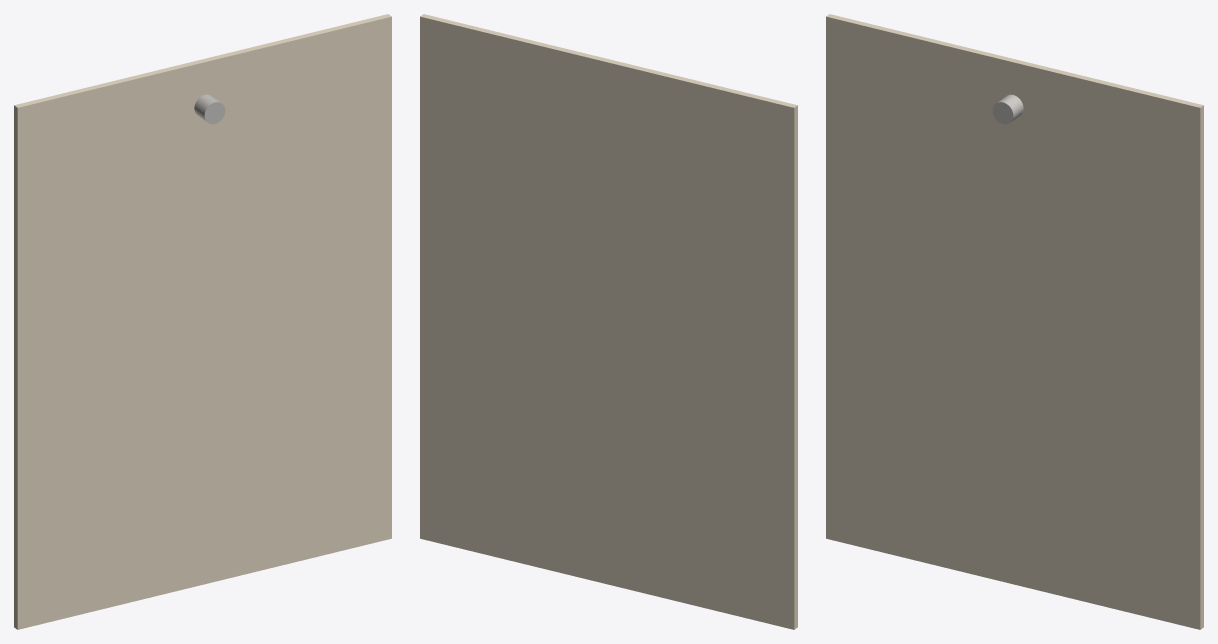
The model's file is prop_old_paper.fbx.
3 renders of one model, left to right at view 1: azimuth 30°, elevation 25°; view 2: azimuth 150°, elevation 25°; view 3: azimuth 330°, elevation 25°, orthographic.
Visible parts, largest first — view 1: Paper, Pin; view 2: Paper; view 3: Paper, Pin.
Boxes of the visible parts, bbox=[...] form: Paper: bbox=[14, 14, 391, 629]; Pin: bbox=[194, 94, 225, 124]; Paper: bbox=[420, 14, 797, 629]; Paper: bbox=[826, 14, 1203, 629]; Pin: bbox=[992, 94, 1023, 124].
Bounding box in the file's own units: 18 × 24 × 1.15.
